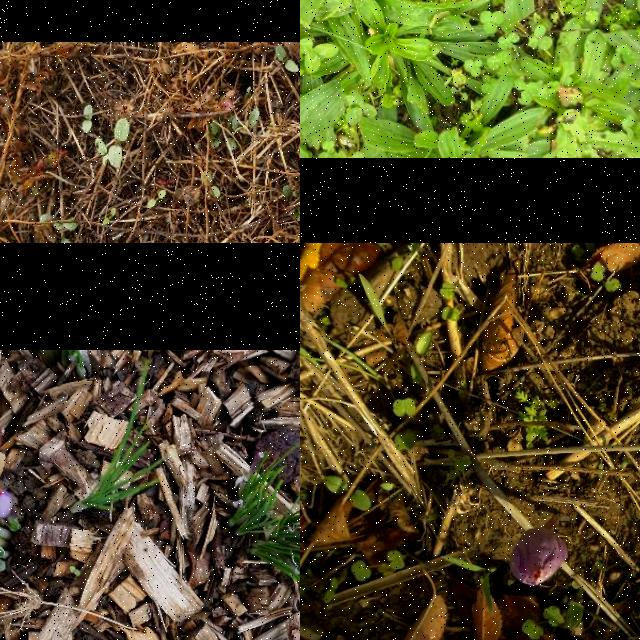flower: (511, 523, 569, 587), (0, 485, 14, 518)
